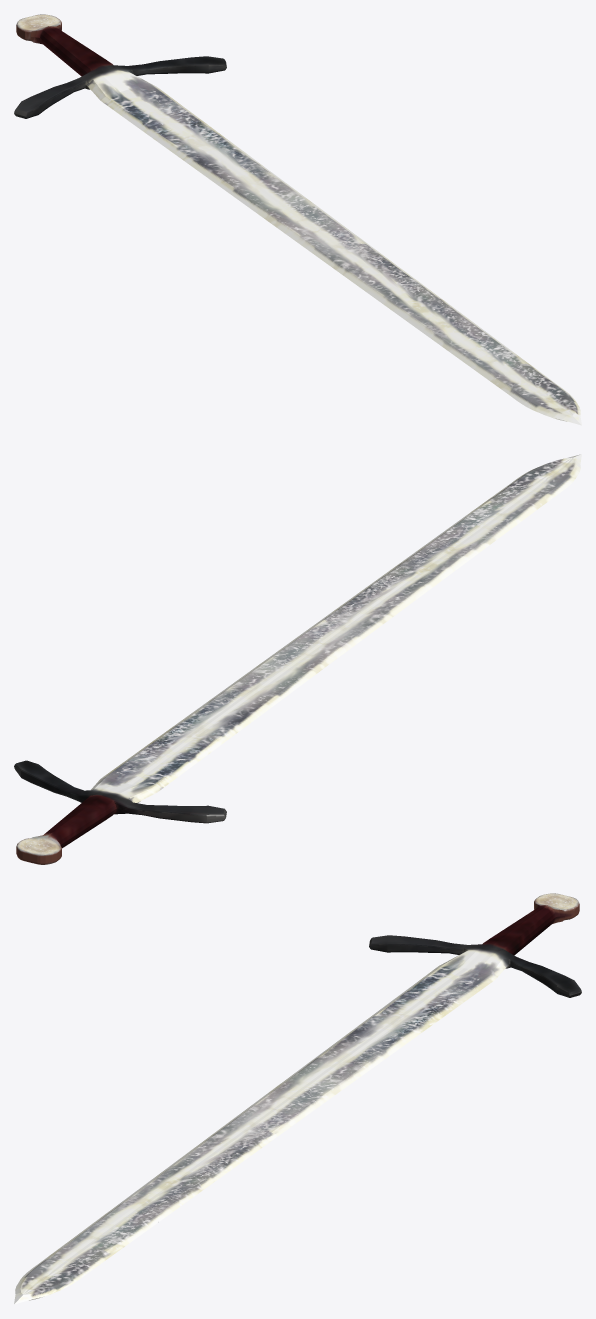
The model's file is Schwert.fbx.
The picture shows the model from 3 angles, top to bottom: view 1: azimuth 30°, elevation 25°; view 2: azimuth 150°, elevation 25°; view 3: azimuth 330°, elevation 25°; orthographic projection.
Parts seen in each view (by area): view 1: Fläche; view 2: Fläche; view 3: Fläche.
Part boxes in pixels (box(x1,y1,x2,y2)): Fläche: box(14, 14, 581, 425); Fläche: box(14, 454, 581, 864); Fläche: box(14, 893, 581, 1304).
Bounding box in the file's own units: 574 × 52.98 × 2591.
Materials: 1 (1 with a texture image).
